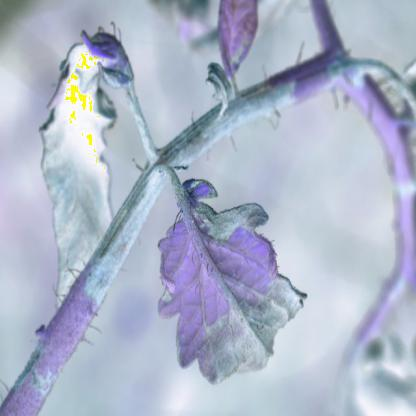Tomato leaf late blight: (151, 182, 307, 394)
